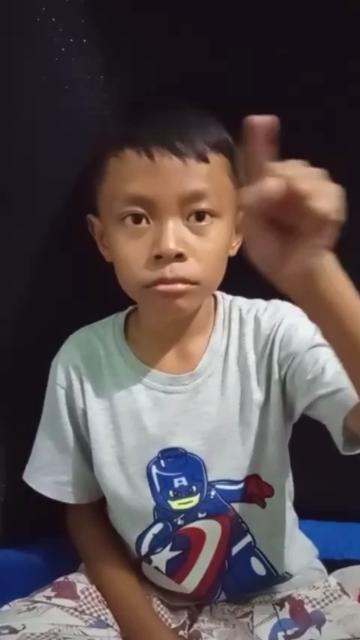Z: (234, 110, 350, 284)
